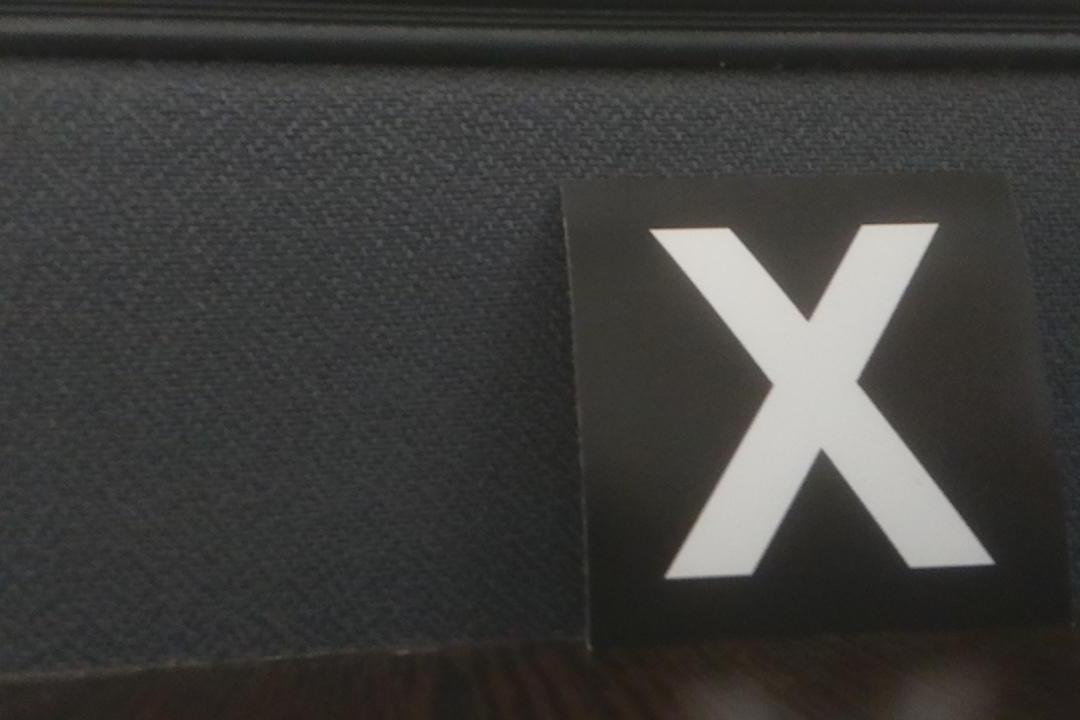x: (557, 174, 1053, 638)
